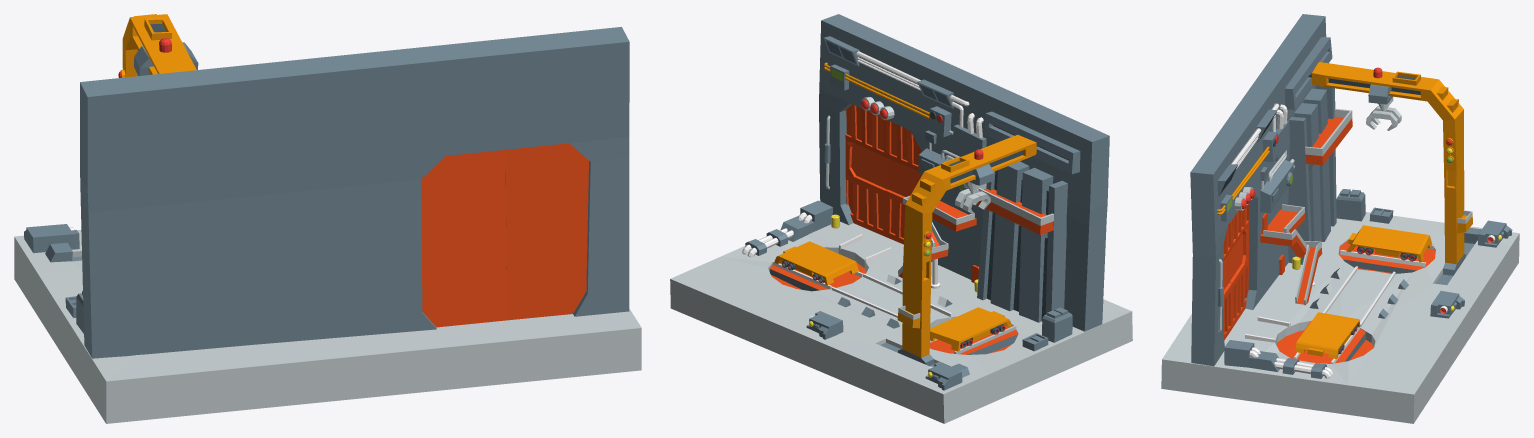
The model's file is scene_mQvXeAhDju.glb.
The picture shows the model from 3 angles, left to right: view 1: azimuth 30°, elevation 25°; view 2: azimuth 150°, elevation 25°; view 3: azimuth 270°, elevation 25°; orthographic projection. The views are drawn at different scales.
Parts seen in each view (by area): view 1: group2106340951, group1369875113, group229393627, group1227555441, group1706384470, group601240197; view 2: group1369875113, group2106340951, group1706384470, group1227555441, group2094051629, group589028200, group229393627, group1751281589, group63660039, group1276694015, group1810091421, group365919594 (+16 smaller); view 3: group1369875113, group2106340951, group1706384470, group1810091421, group1781159147, group1276694015, group365919594, group229393627, group870495281, group1155284992, group589028200, group63660039 (+14 smaller).
Part boxes in pixels (<box>): group2106340951: <box>80,27,629,358</box>; group1369875113: <box>14,230,641,423</box>; group229393627: <box>421,150,508,327</box>; group1227555441: <box>505,143,588,320</box>; group1706384470: <box>118,14,196,77</box>; group601240197: <box>24,224,79,253</box>; group1369875113: <box>670,221,1132,423</box>; group2106340951: <box>819,14,1109,331</box>; group1706384470: <box>897,134,1038,365</box>; group1227555441: <box>845,104,889,237</box>; group2094051629: <box>1019,167,1053,322</box>; group589028200: <box>990,161,1029,311</box>; group229393627: <box>885,120,921,244</box>; group1751281589: <box>1045,180,1067,314</box>; group63660039: <box>984,111,1080,174</box>; group1276694015: <box>774,241,858,285</box>; group1810091421: <box>930,307,1012,351</box>; group365919594: <box>742,200,832,257</box>; group1369875113: <box>1161,212,1519,423</box>; group2106340951: <box>1190,14,1326,366</box>; group1706384470: <box>1308,62,1472,275</box>; group1810091421: <box>1346,225,1432,262</box>; group1781159147: <box>1288,117,1311,264</box>; group1276694015: <box>1295,312,1359,359</box>; group365919594: <box>1224,340,1333,378</box>; group229393627: <box>1228,203,1249,327</box>; group870495281: <box>1338,240,1435,273</box>; group1155284992: <box>1260,209,1322,304</box>; group589028200: <box>1294,103,1321,245</box>; group63660039: <box>1284,37,1332,109</box>.
Bounding box in the file's own units: 5.21 × 2.9 × 4.19.
